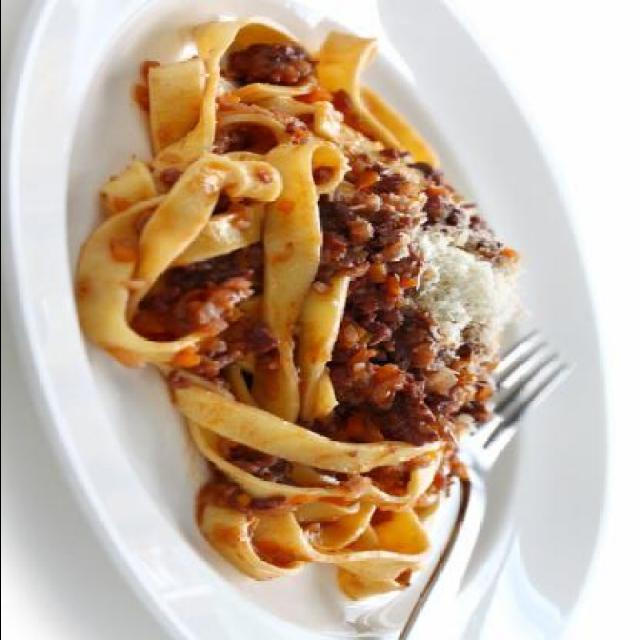Pasta al ragu: (92, 31, 520, 614)
